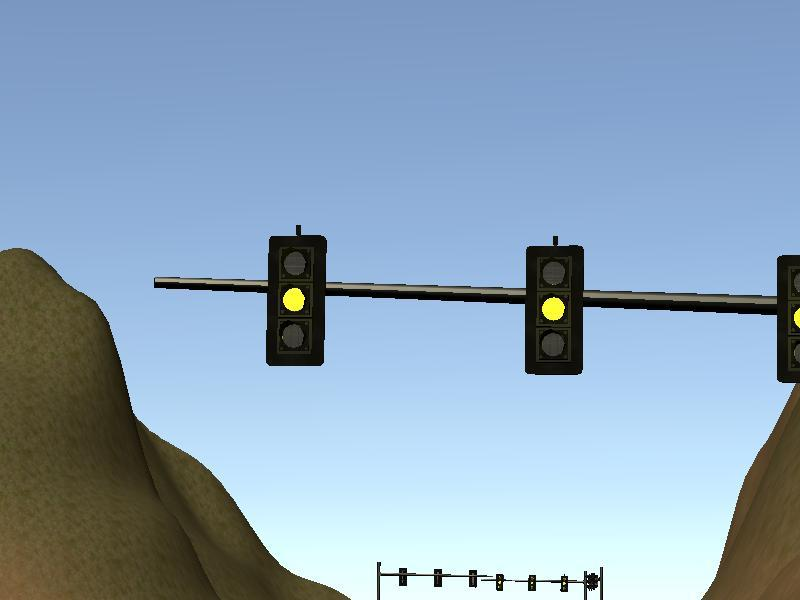Yellow: (525, 245, 585, 377), (268, 235, 327, 364), (527, 573, 537, 593), (495, 573, 504, 591), (560, 574, 568, 594)
